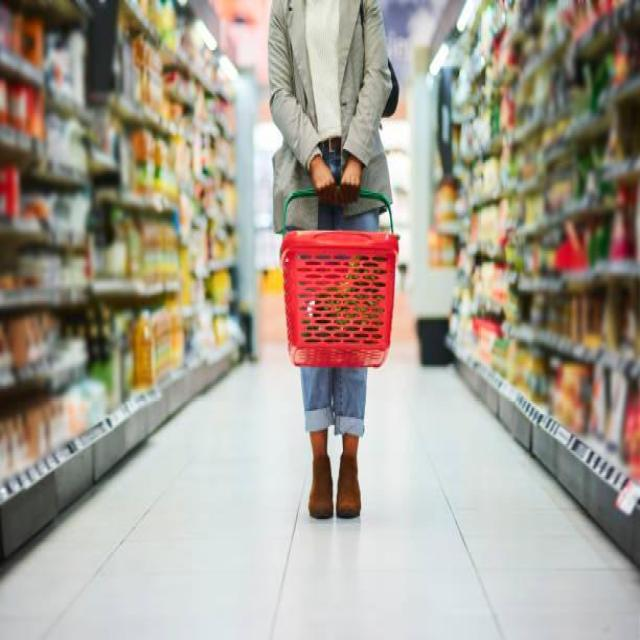hands: (308, 155, 336, 202), (341, 155, 362, 202)
person: (269, 0, 392, 229), (300, 367, 366, 515)
